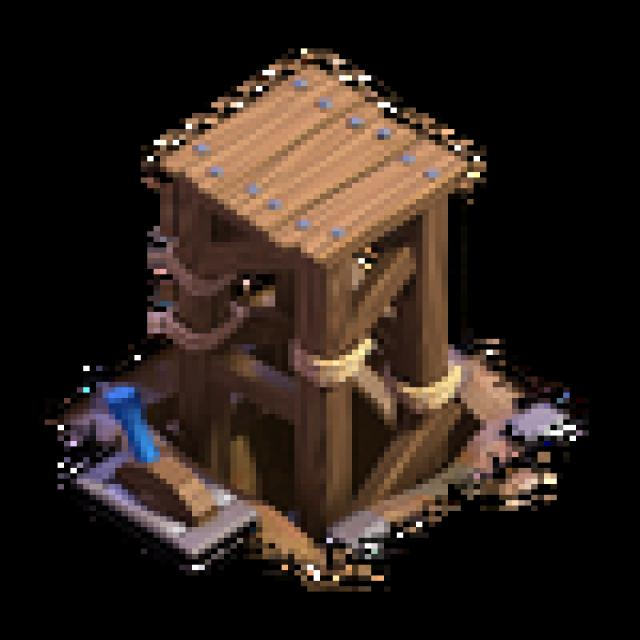archer_tower: (20, 49, 620, 604)
